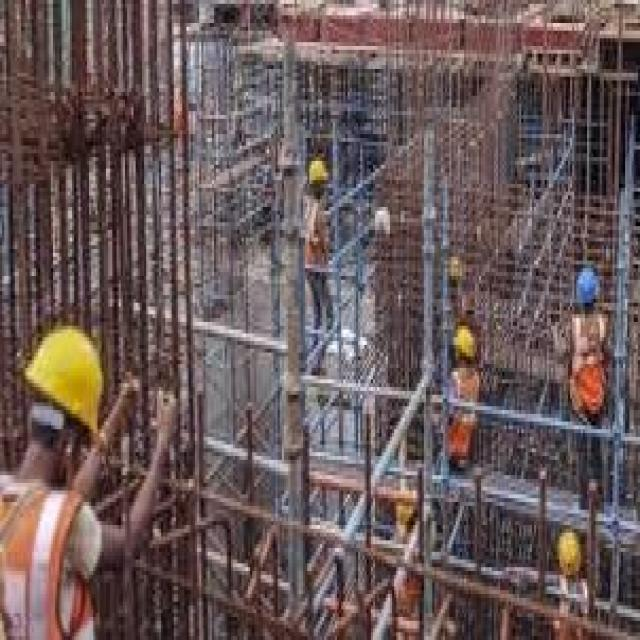Reflective-Jacket: (0, 463, 110, 640), (564, 310, 614, 426), (439, 364, 483, 475), (301, 195, 335, 276)
Safety-Helmet: (13, 310, 121, 464), (553, 521, 587, 583), (570, 257, 604, 310), (447, 318, 481, 368), (303, 150, 333, 192), (443, 246, 470, 292)
